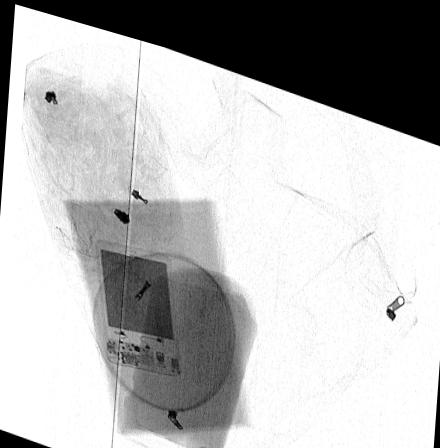Powerbank: (94, 232, 182, 368)
